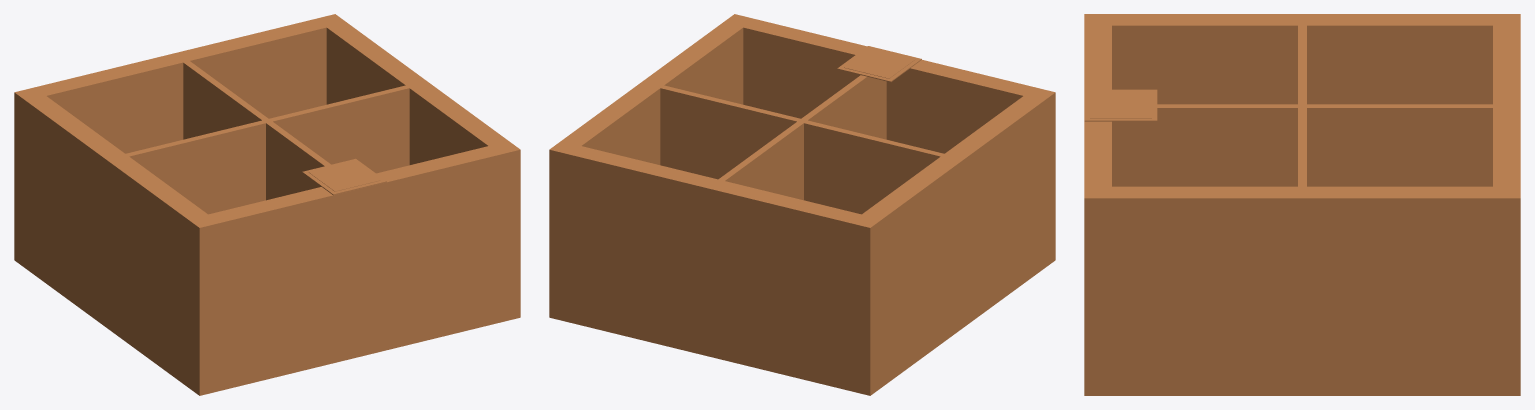
File: cleaning_table.obj
The picture shows the model from 3 angles, left to right: view 1: azimuth 30°, elevation 25°; view 2: azimuth 150°, elevation 25°; view 3: azimuth 270°, elevation 25°; orthographic projection. The views are drawn at different scales.
Visible parts, largest first — view 1: cleaning_table; view 2: cleaning_table; view 3: cleaning_table.
Boxes of the visible parts, x1,y1,x2,y2 form: cleaning_table: (14,14,520,395); cleaning_table: (549,14,1055,395); cleaning_table: (1084,14,1520,395).
Size of the model in its own units: 0.79 by 0.3977 by 0.79.
